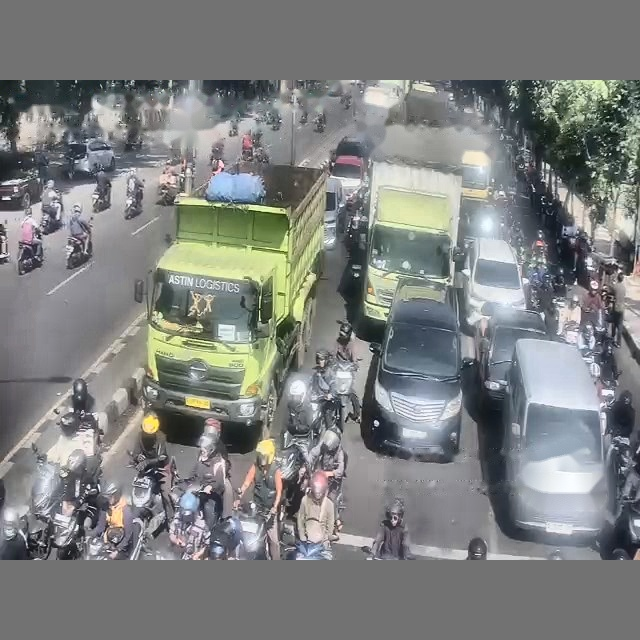Mobil: (366, 296, 474, 460), (476, 309, 549, 408), (460, 238, 527, 328), (391, 276, 458, 316), (0, 152, 41, 208), (64, 139, 115, 178), (459, 201, 504, 243), (333, 136, 373, 164), (327, 82, 344, 97)
Motor: (130, 467, 168, 559), (65, 236, 92, 269), (17, 242, 43, 274), (40, 200, 62, 235), (124, 189, 142, 219), (92, 189, 109, 212), (242, 148, 254, 162), (314, 116, 324, 132), (228, 121, 238, 136), (271, 116, 281, 130)
Truk: (134, 163, 326, 436), (362, 156, 461, 326)
